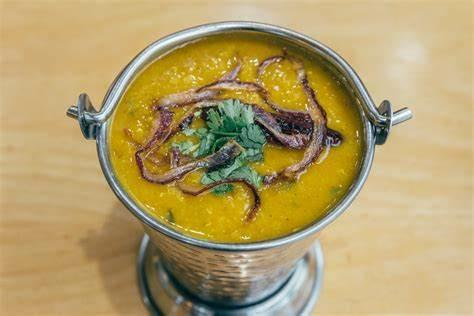Dal: (108, 35, 358, 243)
